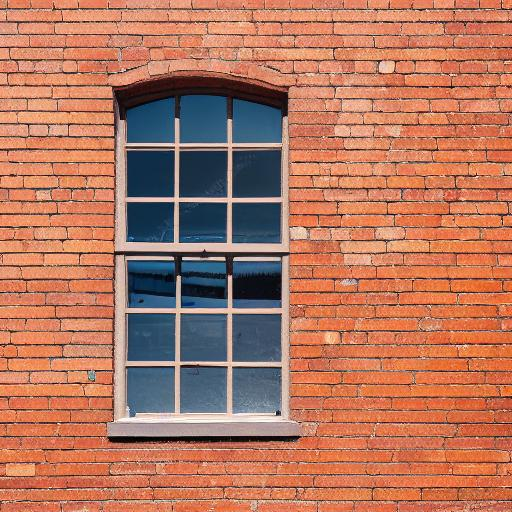Window: (106, 61, 305, 442)
